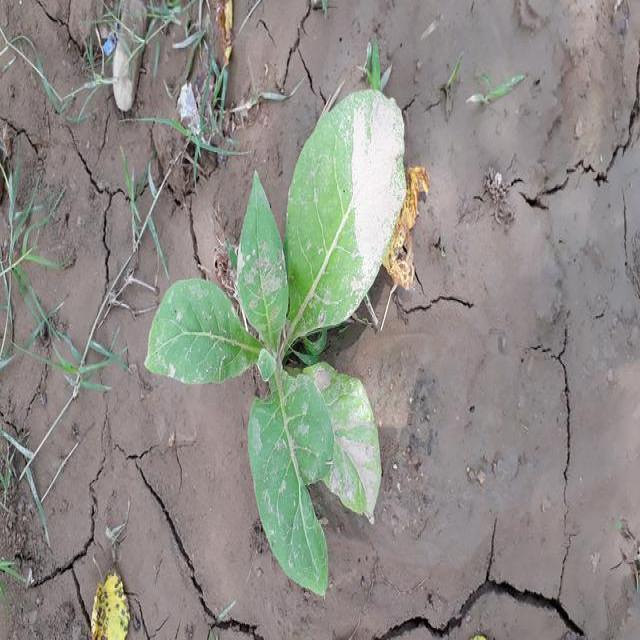crop: (138, 88, 404, 592)
